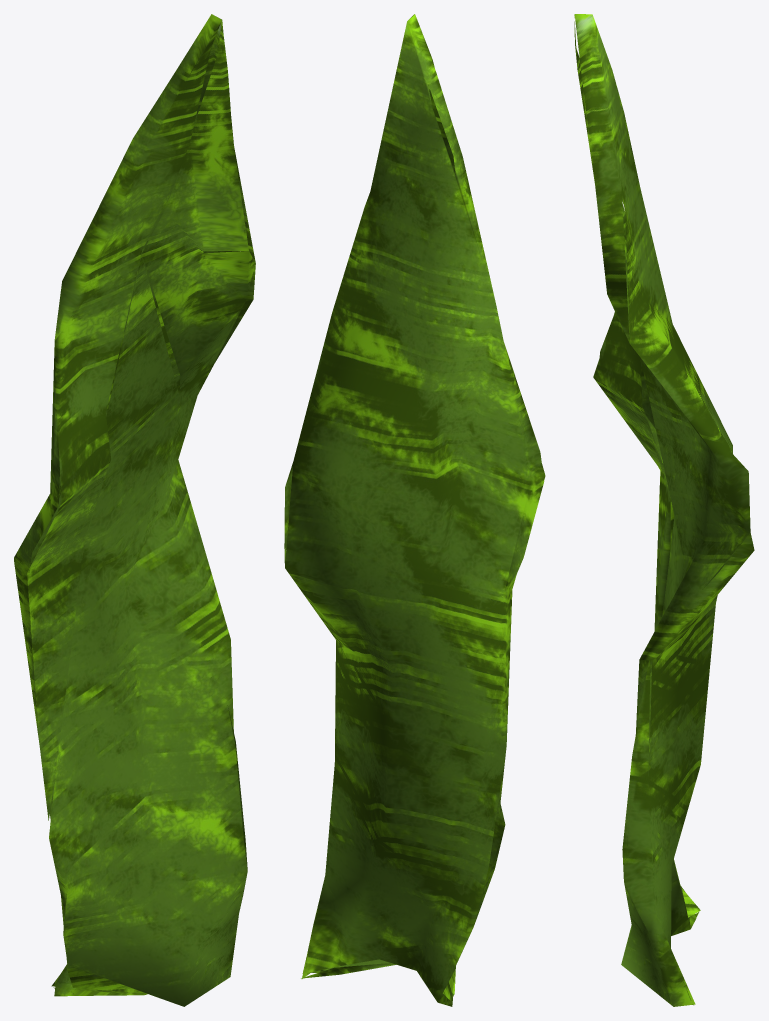
File: seaweed1.glb
3 views of the same model, side by side, from view 1: azimuth 30°, elevation 25°; view 2: azimuth 150°, elevation 25°; view 3: azimuth 270°, elevation 25° (orthographic). The views are drawn at different scales.
Visible parts, largest first — view 1: g; view 2: g; view 3: g.
Part boxes in pixels (x1=…): g: x1=14, y1=14, x2=255, y2=1006; g: x1=284, y1=14, x2=545, y2=1006; g: x1=574, y1=14, x2=754, y2=1006.
Bounding box in the file's own units: 0.4441 × 2 × 0.3382.
Materials: 1 (1 with a texture image).
